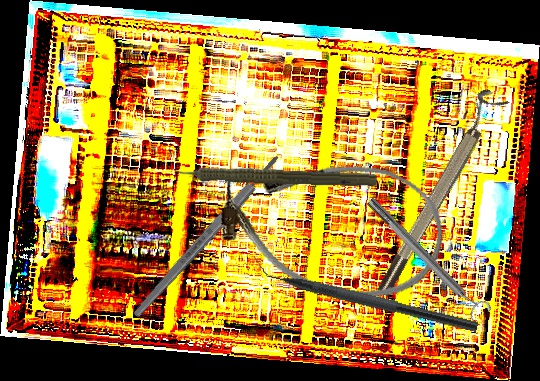Cannula: (206, 139, 456, 313)
Chopper: (248, 253, 483, 333)
Fixation Ring: (364, 86, 510, 299), (361, 190, 494, 326)
Handpiece: (159, 158, 378, 190)
Scalpel Handle: (130, 152, 283, 320)
